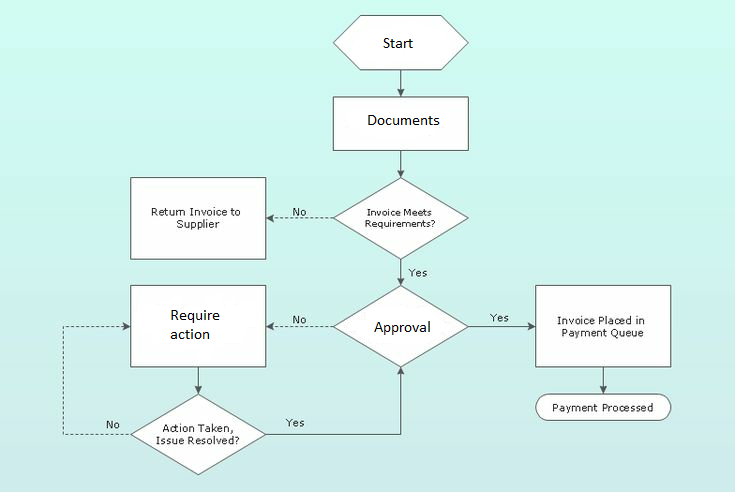arrow: (265, 366, 406, 438), (60, 321, 128, 436), (266, 320, 337, 332), (267, 214, 336, 223), (466, 323, 537, 331), (394, 70, 405, 95), (397, 151, 405, 179), (599, 366, 607, 394), (397, 261, 404, 287)
decision: (333, 285, 468, 366), (132, 394, 266, 474), (334, 179, 469, 258)
process: (128, 282, 269, 367), (128, 176, 268, 261), (534, 285, 673, 364), (331, 93, 472, 154), (334, 13, 469, 71)
terminator: (536, 392, 671, 422)
text: (148, 206, 242, 232), (555, 314, 647, 339), (155, 423, 241, 447), (363, 206, 436, 230), (169, 308, 219, 341), (365, 113, 440, 130), (550, 403, 655, 414), (372, 320, 433, 335), (381, 35, 414, 52), (487, 312, 510, 323), (408, 267, 428, 279), (103, 417, 121, 430), (284, 417, 305, 428), (290, 314, 307, 325), (290, 208, 310, 217)
